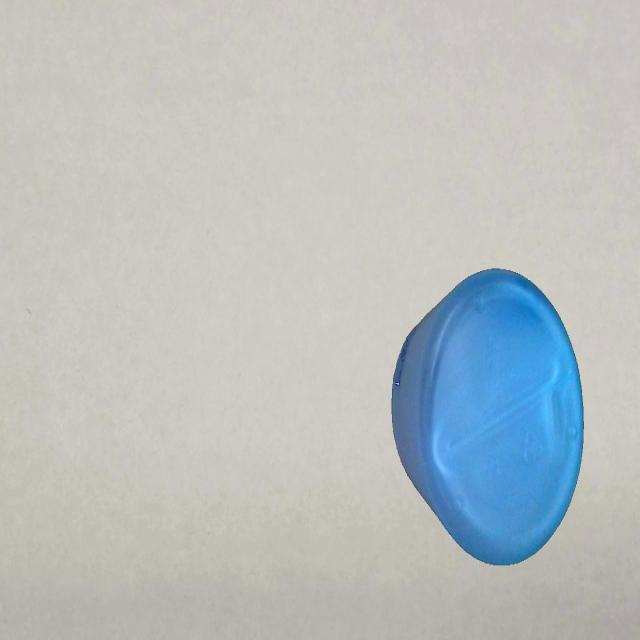bottle: (390, 263, 586, 565)
